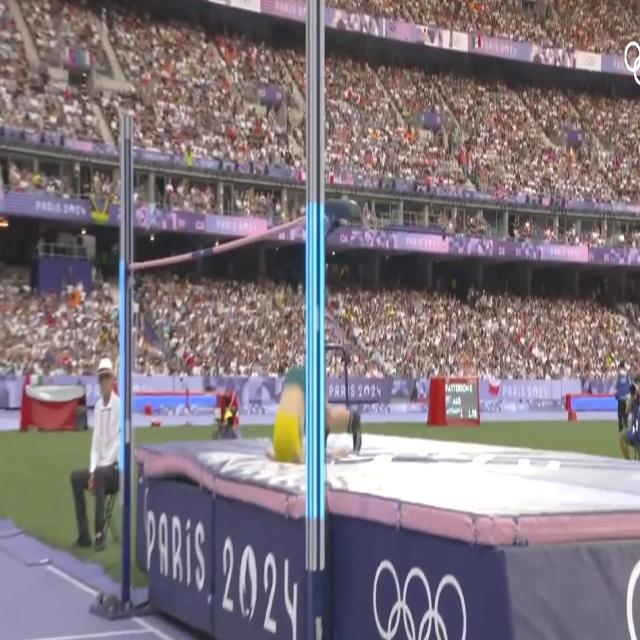land: (275, 360, 364, 461)
